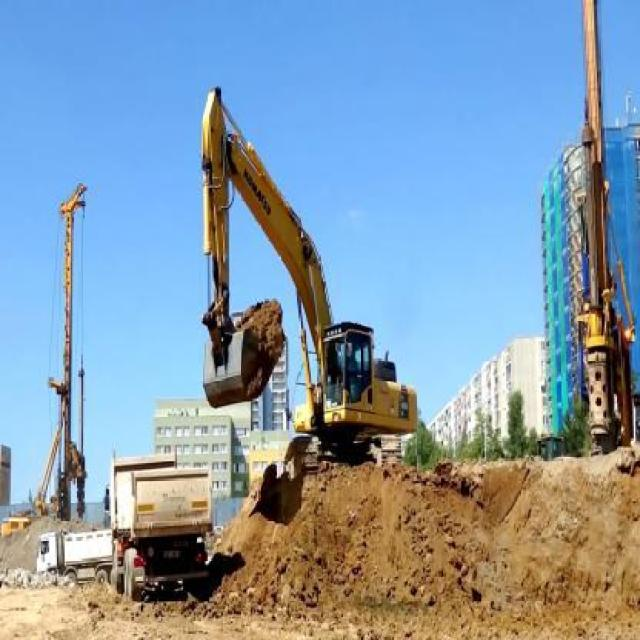dump_truck: (100, 442, 217, 606), (27, 525, 116, 590)
excavator: (184, 80, 422, 488)
